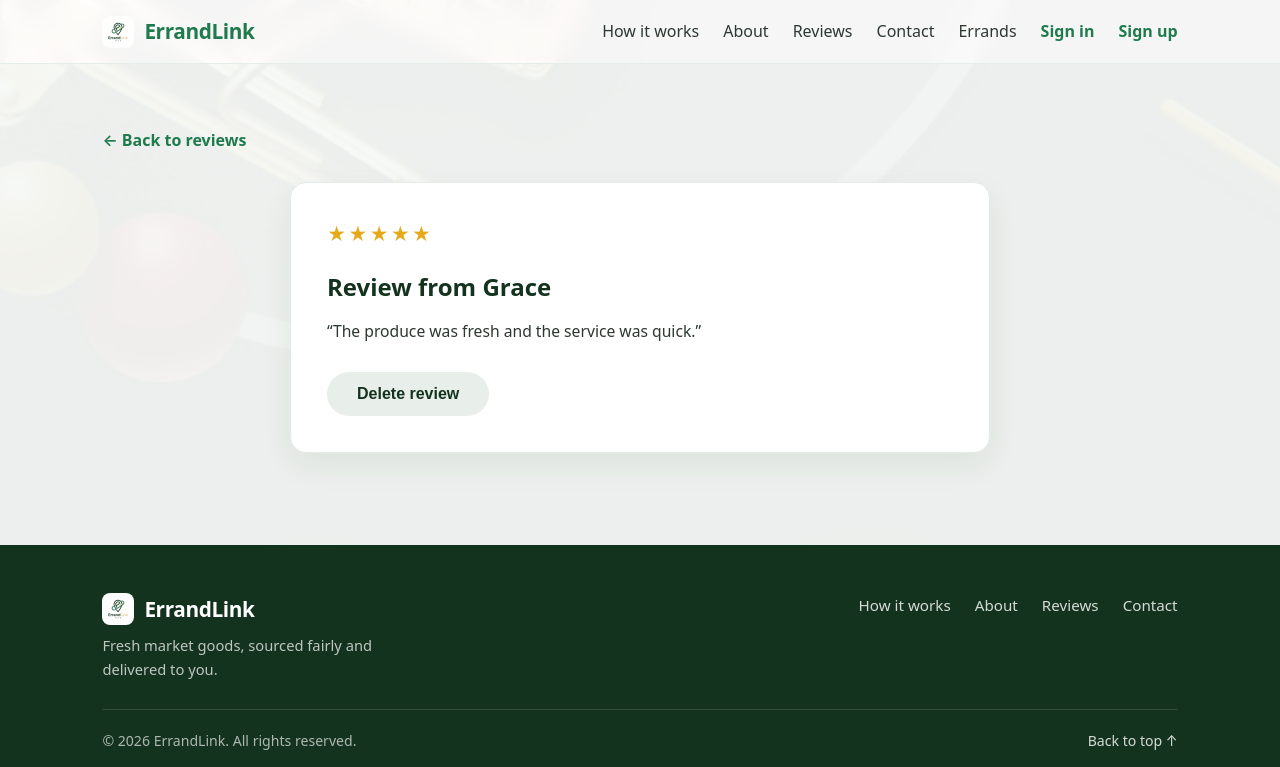
Test: customer reviews › can delete a review
The width and height of the screenshot is (1280, 767).
Check: the heading "Review from Grace" is shown, box x1=327 y1=270 x2=551 y2=303
Click the button "Delete review". click: {"x": 408, "y": 394}
box: x1=327 y1=372 x2=489 y2=416
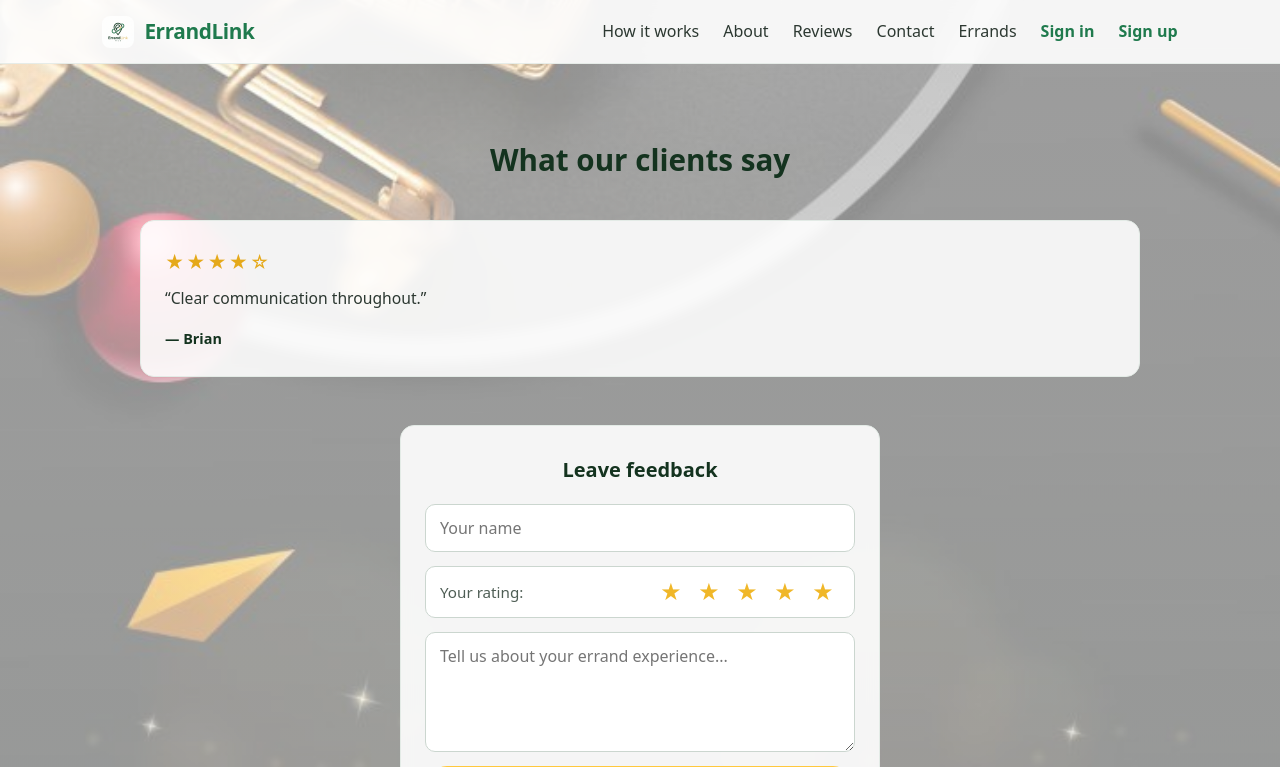
Check: the heading "What our clients say" is shown, box x1=490 y1=139 x2=790 y2=180
Check: the text "The produce was fresh" is gone
